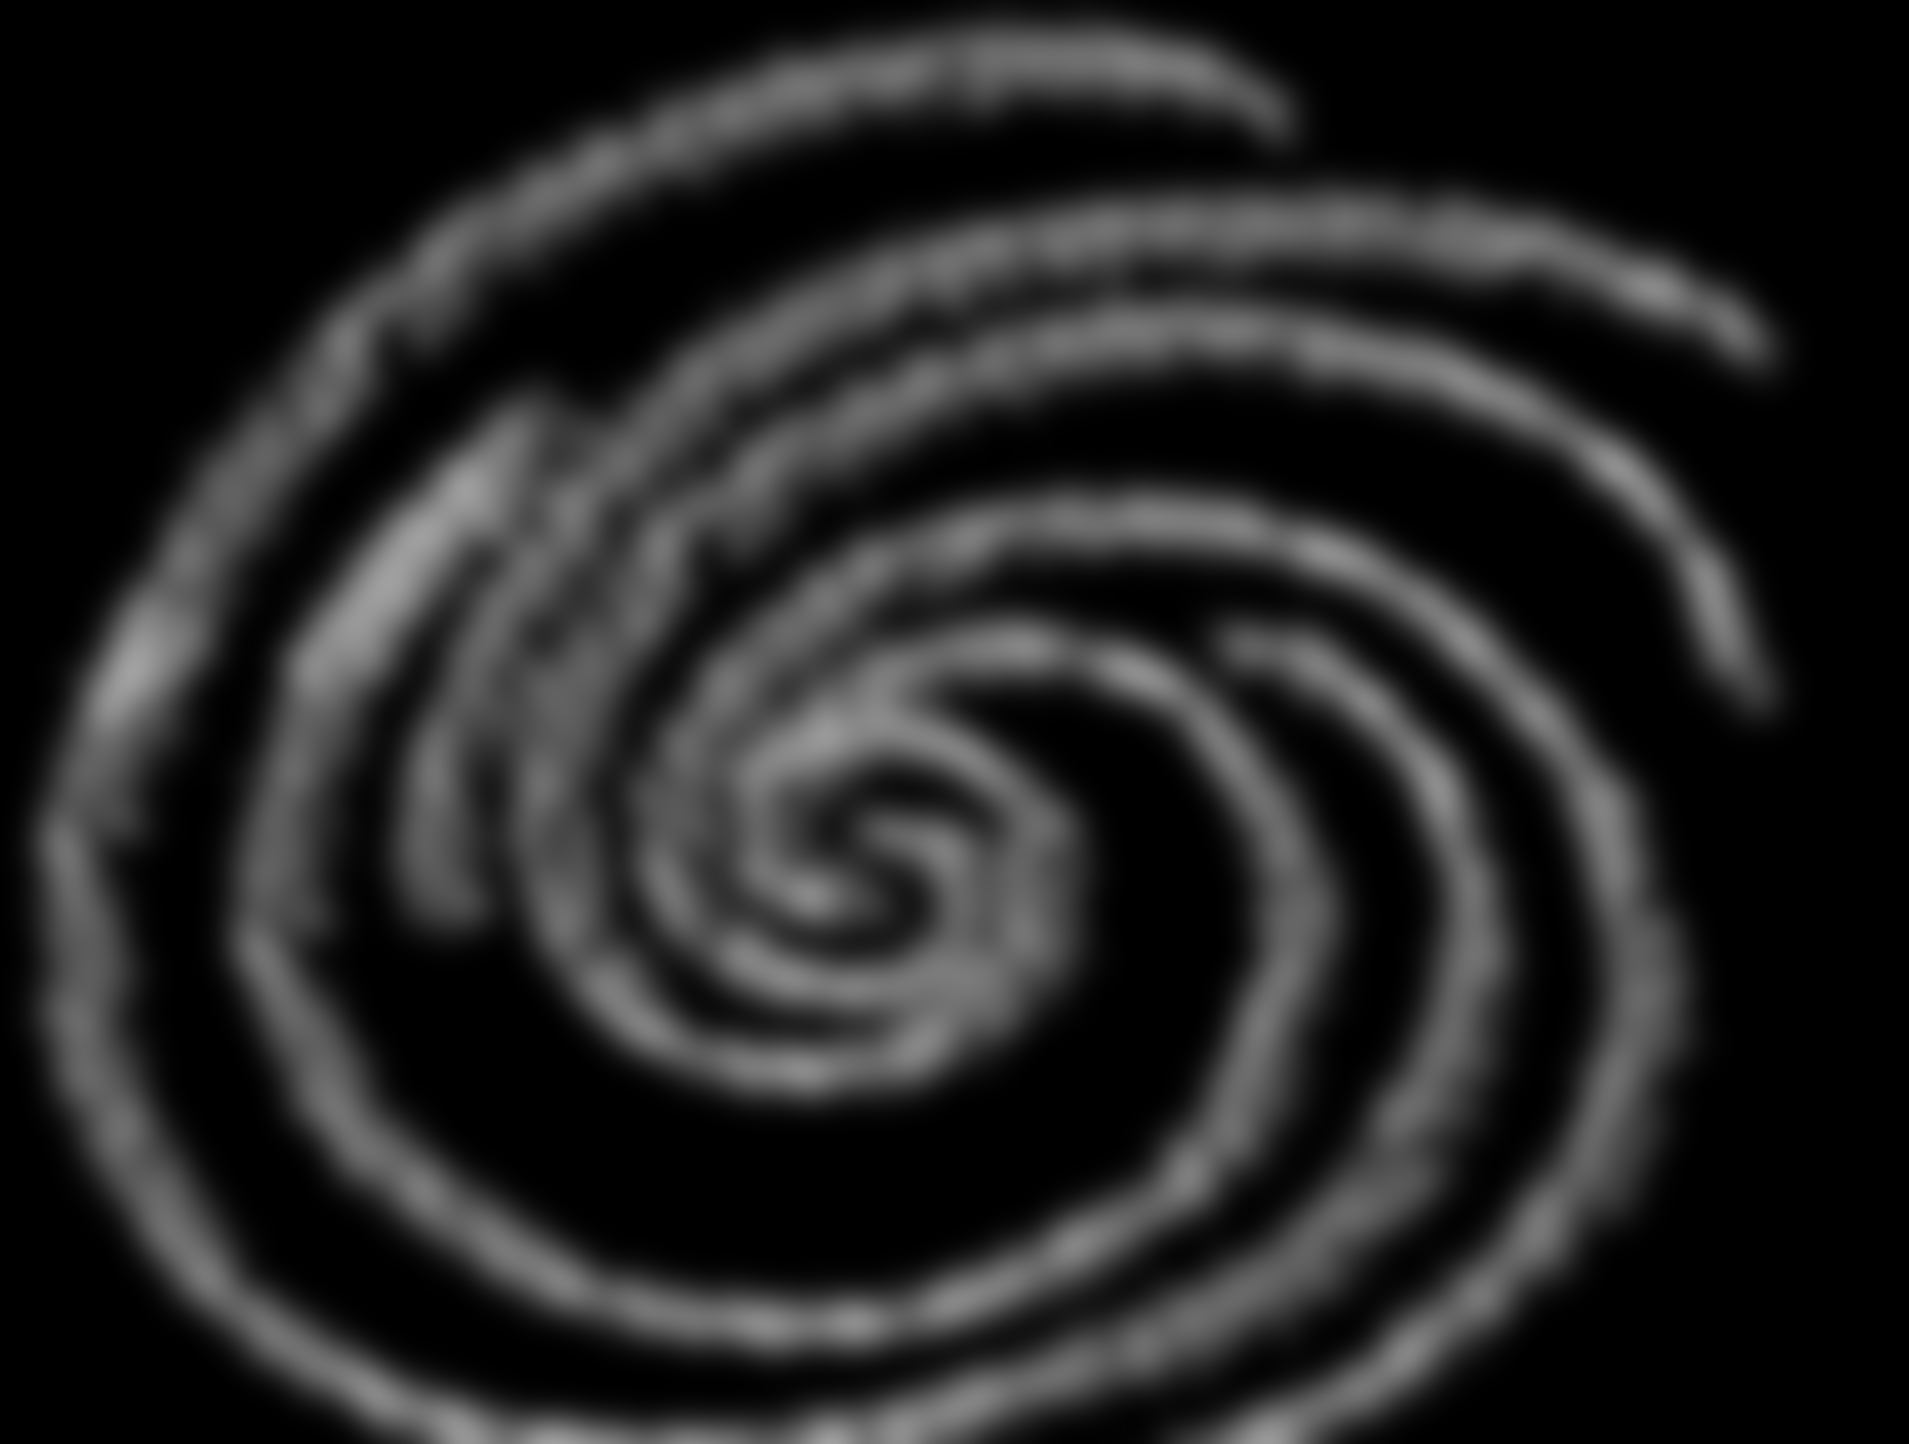vortex: (49, 24, 1798, 1430)
